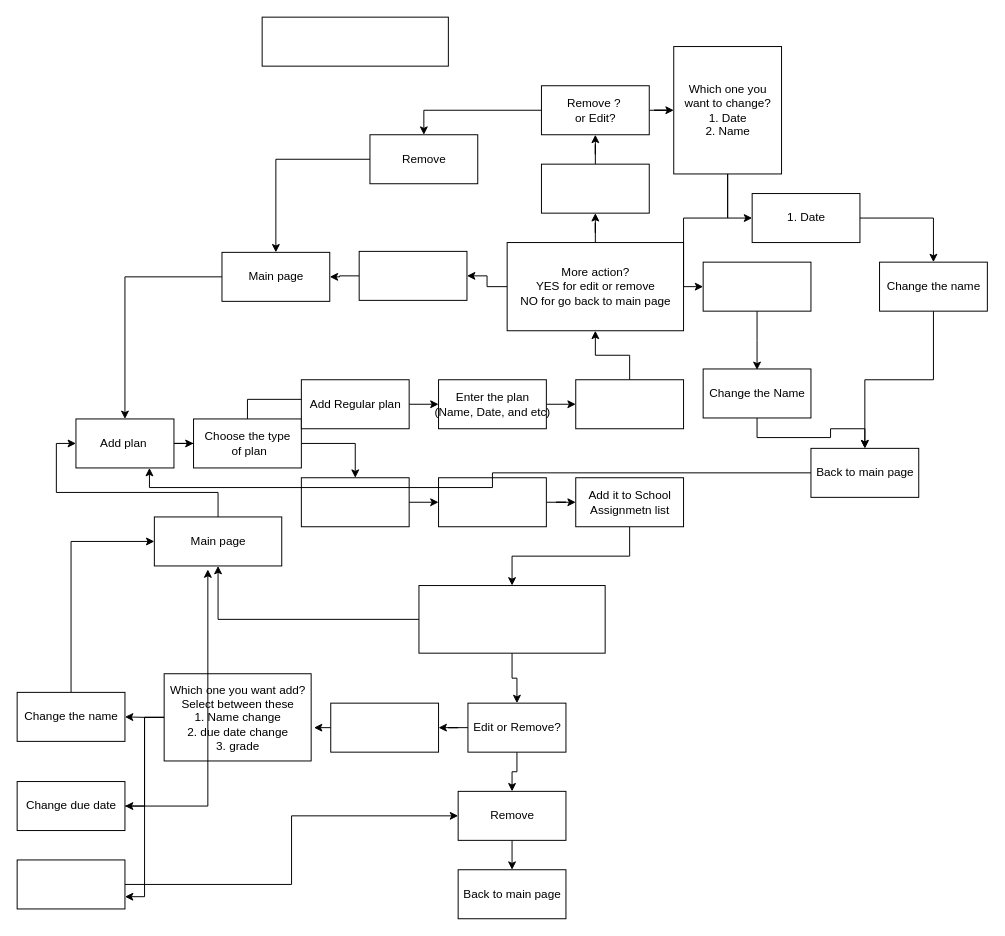
Image size: 1005x936. Some labels were removed from this diagram. The centre of each missing label's shape, as x and y in pixels:
"2. Name" belongs at point 756,286.
"Add it to Regular Plan list" belongs at point 629,404.
"Add School assignment" belongs at point 354,502.
"Change" belongs at point 384,727.
"Enter the due date, name, and etc" belongs at point 492,502.
"More action? YES for edit or remove No for Back to main page" belongs at point 511,619.
"NO" belongs at point 412,275.
"Planner" belongs at point 354,41.
"Remove it if user mark it as finish" belongs at point 70,884.
"YES" belongs at point 594,188.
